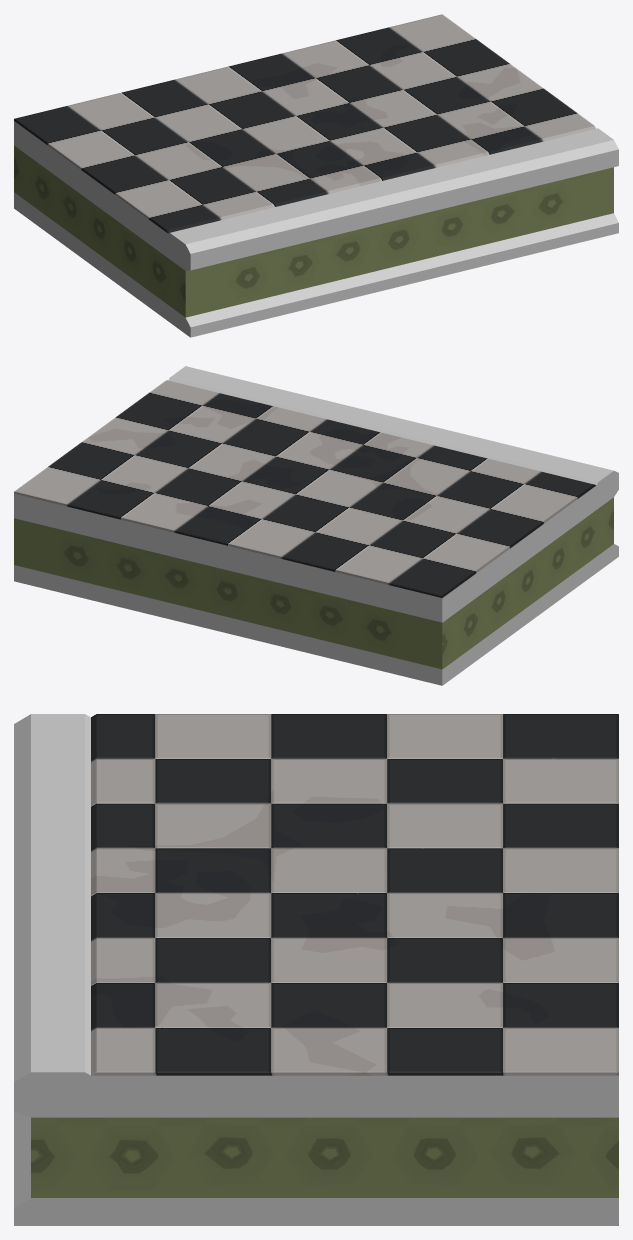
Rendered from SM_Prop_Platform_02.fbx.
3 views of the same model, one above another, from view 1: azimuth 30°, elevation 25°; view 2: azimuth 150°, elevation 25°; view 3: azimuth 270°, elevation 25° (orthographic). The views are drawn at different scales.
Parts seen in each view (by area): view 1: SM_Prop_Platform_02; view 2: SM_Prop_Platform_02; view 3: SM_Prop_Platform_02.
Part boxes in pixels (bbox=[...]): SM_Prop_Platform_02: bbox=[14, 14, 618, 337]; SM_Prop_Platform_02: bbox=[14, 366, 618, 685]; SM_Prop_Platform_02: bbox=[14, 714, 618, 1225].
Bounding box in the file's own units: 250 × 50 × 178.
